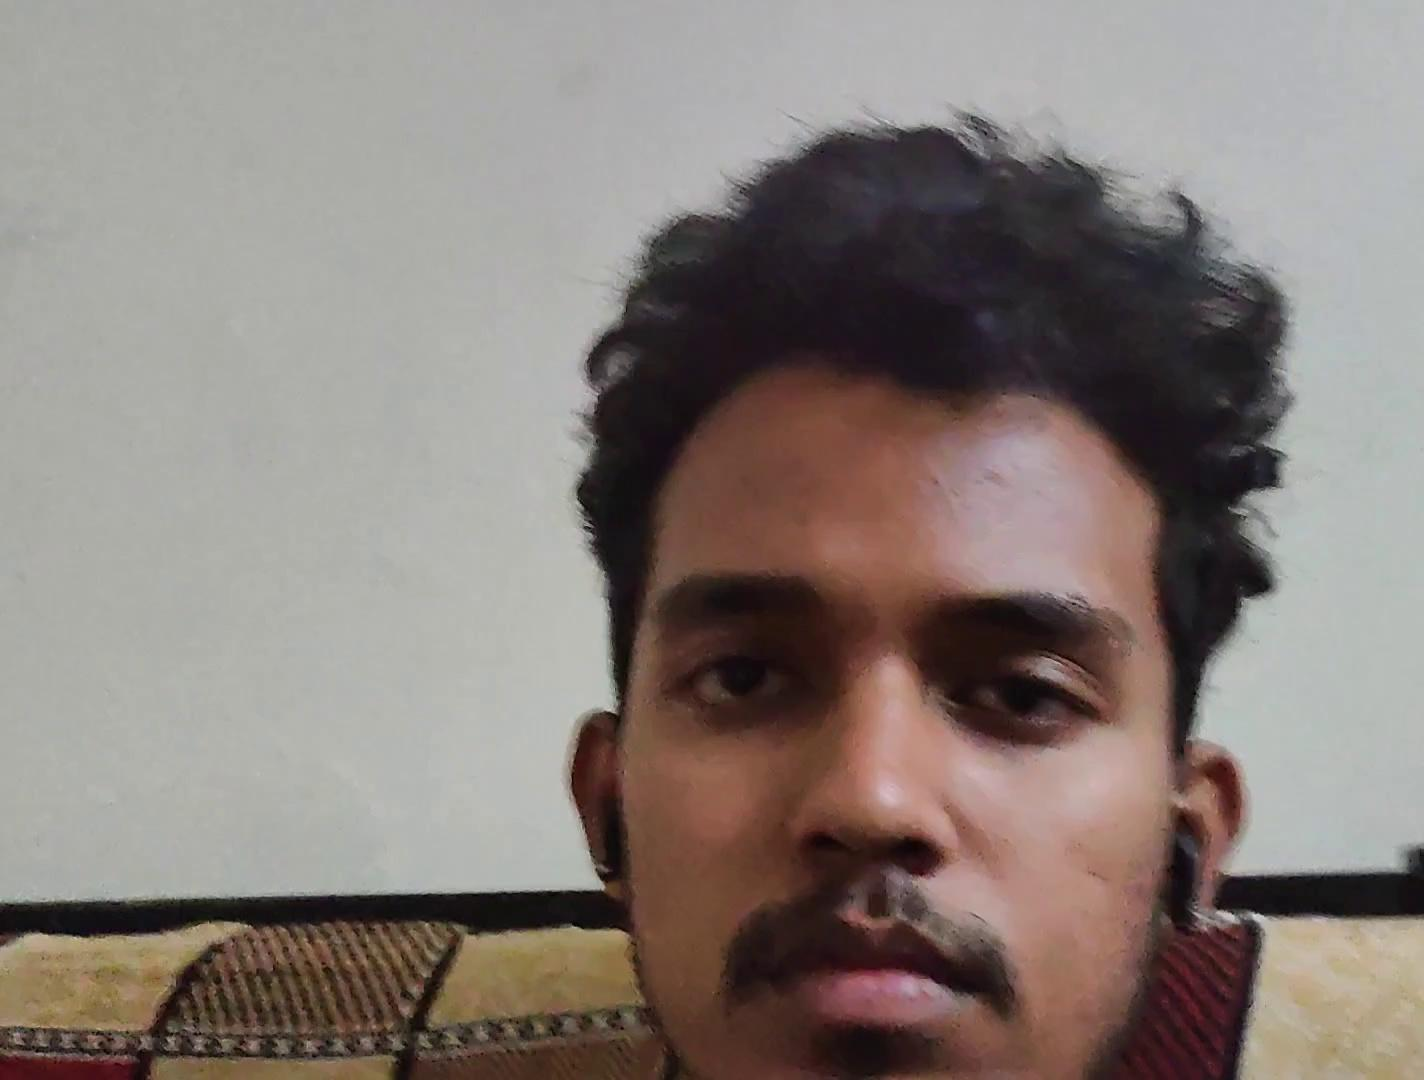face: (616, 372, 1177, 1078)
